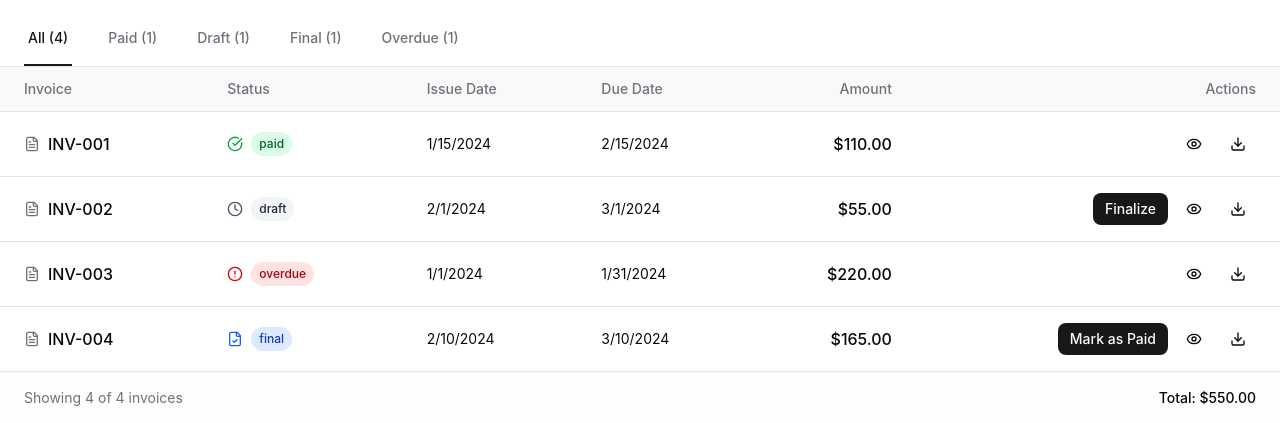
Test: OrganizationInvoiceHistory › Filter Tabs › should filter to draft invoices
This screenshot has width=1280, height=423.
What coordinates should you click on to do the following:
click the button "Draft (1)"
I would click on:
 (224, 39)
Its box is [193,12,254,66].
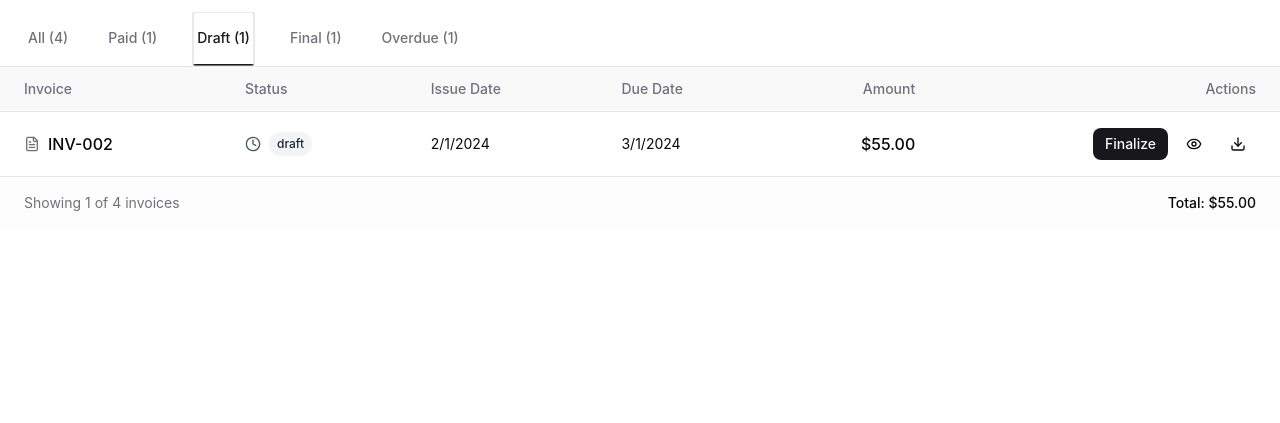
Expected: the text "INV-002" is shown, [48,132,113,156]
Expected: the text "INV-001" is gone
Expected: the text "INV-003" is gone
